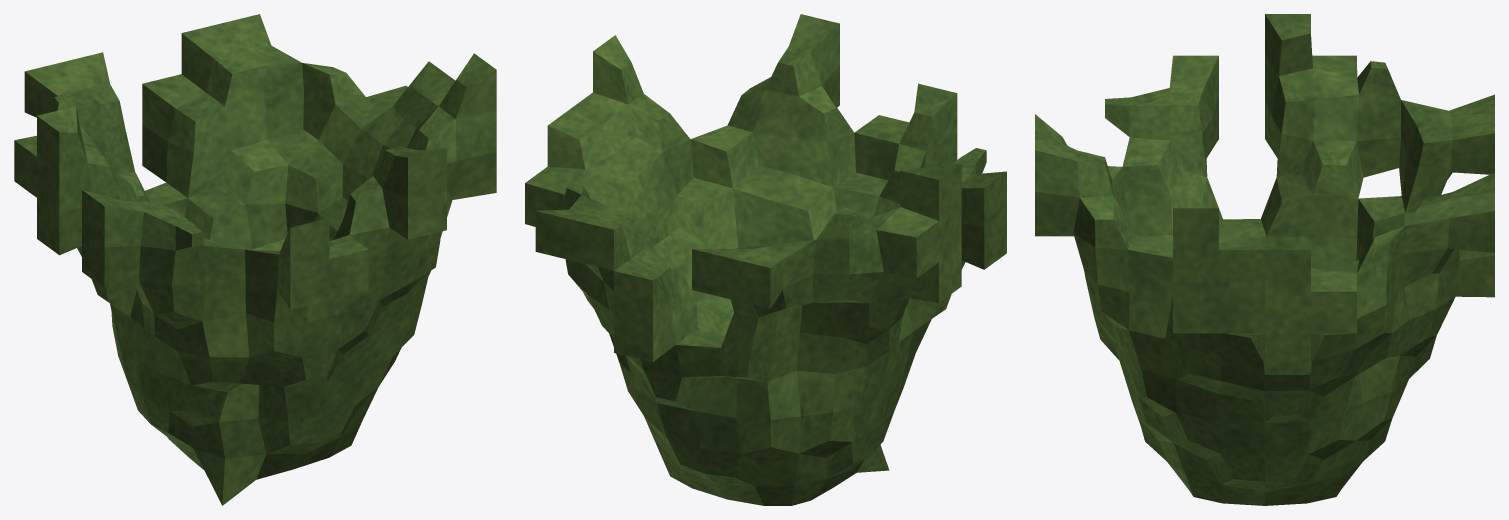
Rendered from flora_grass_green.glb.
3 views of the same model, side by side, from view 1: azimuth 30°, elevation 25°; view 2: azimuth 150°, elevation 25°; view 3: azimuth 270°, elevation 25° (orthographic).
Visible parts, largest first — view 1: wilds_flora_grass_green; view 2: wilds_flora_grass_green; view 3: wilds_flora_grass_green.
Boxes of the visible parts, <box> form: wilds_flora_grass_green: <box>14,14,496,505</box>; wilds_flora_grass_green: <box>525,14,1006,505</box>; wilds_flora_grass_green: <box>1035,14,1494,505</box>.
Bounding box in the file's own units: 0.625 × 0.5625 × 0.625.
Materials: 1 (1 with a texture image).
